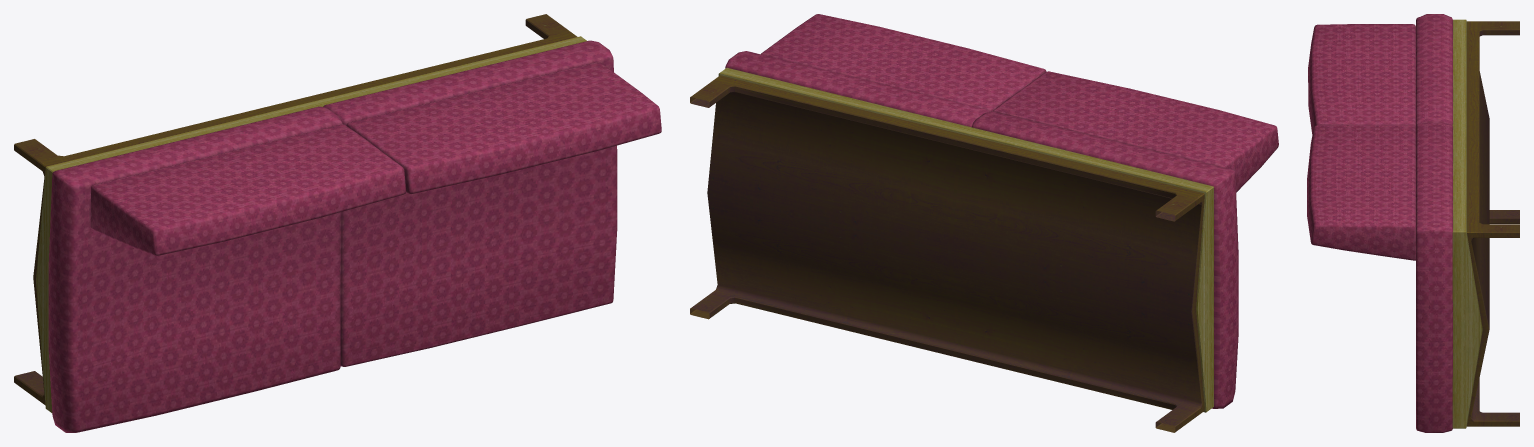
File: nt_2020_house_02_couch_LOD0.obj
3 renders of one model, left to right at view 1: azimuth 30°, elevation 25°; view 2: azimuth 150°, elevation 25°; view 3: azimuth 270°, elevation 25°, orthographic. The views are drawn at different scales.
Parts seen in each view (by area): view 1: mtl_nt_2020_house_02_couch; view 2: mtl_nt_2020_house_02_couch; view 3: mtl_nt_2020_house_02_couch.
Part boxes in pixels (box(x1,y1,x2,y2)): mtl_nt_2020_house_02_couch: box(14, 14, 661, 432); mtl_nt_2020_house_02_couch: box(690, 14, 1278, 432); mtl_nt_2020_house_02_couch: box(1307, 14, 1519, 432).
Size of the model in its own units: 196 by 86.75 by 80.51.
